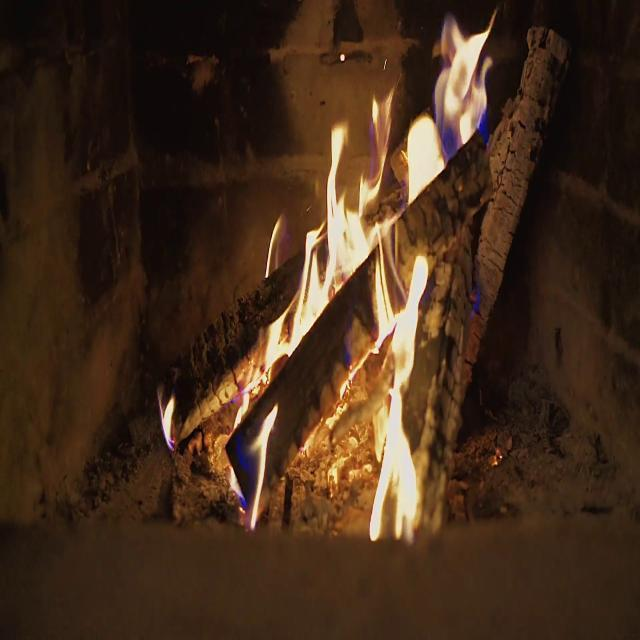Fire: (224, 48, 433, 536), (404, 0, 501, 189), (152, 387, 182, 453)
